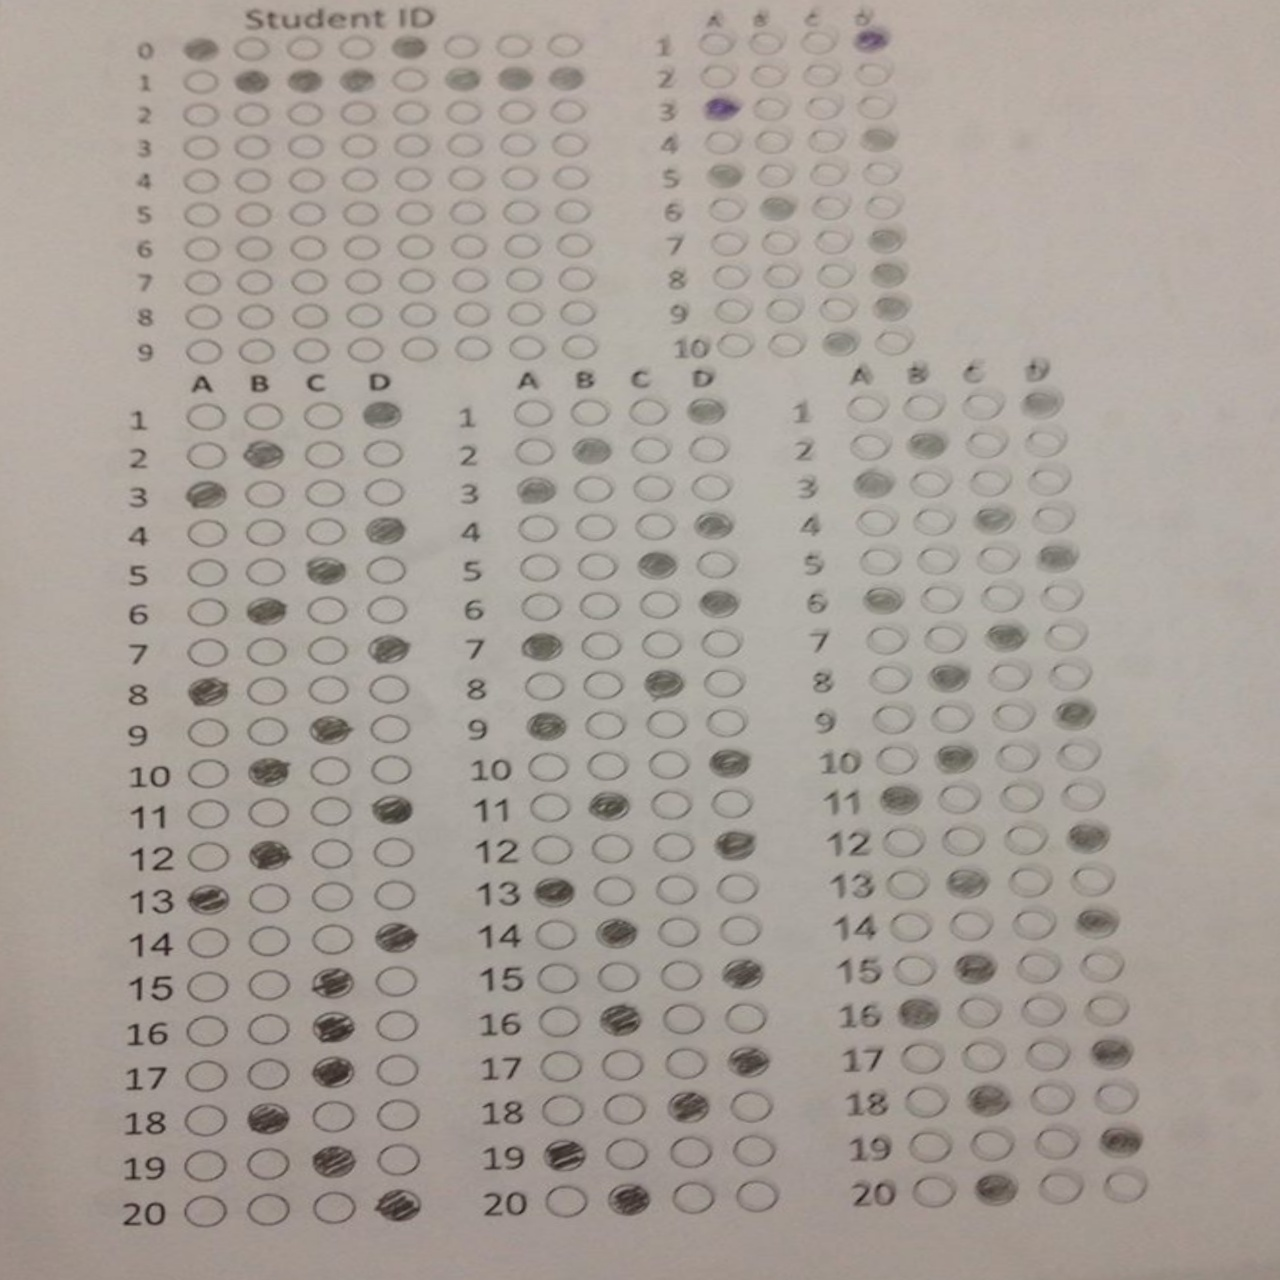not-c: (179, 1101, 229, 1139), (241, 922, 297, 956), (597, 1092, 651, 1126), (245, 1056, 294, 1092), (880, 911, 934, 944), (535, 1051, 586, 1085), (374, 1142, 422, 1178), (527, 962, 580, 995), (1048, 741, 1104, 771), (903, 1130, 953, 1164), (523, 753, 574, 785), (1010, 908, 1061, 941), (309, 1098, 356, 1133), (656, 958, 703, 993), (717, 915, 765, 949), (969, 1128, 1017, 1162), (1037, 1172, 1085, 1206), (532, 1007, 584, 1039), (602, 1047, 646, 1084), (243, 1194, 292, 1227), (901, 1085, 951, 1118), (599, 1137, 652, 1167), (375, 1054, 422, 1088), (181, 1194, 227, 1228), (665, 1046, 712, 1080), (1022, 1039, 1069, 1073), (519, 792, 573, 822), (999, 826, 1053, 856), (646, 748, 694, 781), (666, 1183, 714, 1216), (1033, 1126, 1082, 1158), (246, 1148, 292, 1182), (646, 789, 693, 822), (1080, 994, 1126, 1027), (880, 869, 931, 899), (947, 912, 998, 942), (545, 1183, 588, 1218), (1016, 953, 1060, 988), (184, 1016, 232, 1048), (1092, 1082, 1141, 1114), (918, 624, 969, 653), (376, 1097, 422, 1130), (712, 872, 757, 905), (668, 1137, 714, 1170), (1068, 869, 1117, 899), (243, 636, 290, 668), (372, 881, 418, 913), (182, 1061, 229, 1092), (651, 831, 697, 863), (853, 508, 900, 539), (985, 663, 1035, 693), (1016, 996, 1067, 1026), (247, 798, 291, 832), (369, 835, 413, 869), (186, 925, 230, 959), (913, 1175, 956, 1208), (1105, 1172, 1149, 1206), (372, 967, 420, 998), (586, 753, 634, 783), (710, 789, 758, 819), (998, 783, 1046, 813), (888, 955, 937, 986), (244, 715, 290, 747), (368, 755, 414, 787), (312, 924, 358, 955), (530, 920, 576, 952), (1081, 952, 1126, 983), (542, 1092, 583, 1128), (587, 876, 634, 906), (953, 999, 1000, 1029), (900, 1042, 947, 1073), (308, 754, 352, 787), (701, 627, 744, 660), (663, 1005, 707, 1037), (312, 1191, 356, 1223), (687, 471, 731, 503), (522, 670, 566, 702), (1027, 1083, 1071, 1115), (182, 638, 230, 667), (726, 1003, 767, 1037), (188, 799, 233, 830), (184, 842, 230, 872), (184, 1151, 230, 1182), (510, 436, 556, 467), (629, 476, 675, 506), (653, 874, 699, 905), (1064, 782, 1110, 812), (879, 828, 925, 858), (1009, 871, 1055, 901), (519, 551, 561, 584), (731, 1139, 778, 1169), (840, 394, 887, 423), (365, 554, 408, 586), (729, 1092, 772, 1124), (845, 433, 896, 459), (244, 477, 288, 508), (635, 511, 680, 542), (366, 716, 414, 744), (658, 917, 699, 949), (246, 969, 292, 999), (513, 513, 559, 543), (932, 787, 981, 813), (301, 401, 345, 431), (186, 973, 230, 1003), (376, 1012, 420, 1042), (576, 512, 619, 543), (243, 519, 290, 547), (738, 1178, 777, 1212), (313, 881, 353, 914), (692, 552, 736, 581), (703, 669, 748, 699), (706, 710, 750, 740), (248, 1014, 290, 1046), (644, 632, 685, 663), (964, 1042, 1005, 1074), (307, 798, 355, 825), (527, 836, 576, 863), (556, 298, 598, 328), (243, 558, 288, 586), (305, 595, 350, 624), (244, 676, 290, 704), (307, 840, 353, 869), (574, 553, 620, 581), (967, 469, 1013, 497), (1027, 467, 1073, 495), (1042, 621, 1084, 652), (869, 704, 914, 733), (182, 302, 225, 332), (185, 441, 229, 470), (588, 836, 632, 865), (941, 828, 985, 857), (245, 885, 292, 912), (183, 598, 227, 626), (366, 595, 410, 624), (958, 393, 1002, 421), (336, 33, 377, 63), (646, 708, 687, 738), (812, 298, 860, 324), (287, 199, 329, 229), (581, 629, 624, 659), (583, 670, 625, 700), (183, 520, 229, 547), (568, 400, 614, 427), (869, 666, 914, 693), (873, 745, 919, 772), (641, 588, 680, 620), (546, 30, 590, 59), (369, 676, 413, 704), (185, 760, 229, 788), (572, 477, 615, 505), (584, 712, 627, 740), (976, 586, 1020, 614), (1049, 663, 1092, 692), (996, 744, 1040, 772), (306, 674, 346, 704), (233, 268, 274, 298), (704, 195, 749, 222), (815, 263, 859, 290), (365, 479, 407, 508), (629, 397, 672, 425), (802, 93, 844, 121), (964, 430, 1006, 458), (1032, 505, 1074, 533), (627, 437, 673, 463), (765, 332, 811, 358), (231, 35, 274, 62), (394, 234, 437, 261), (306, 518, 349, 545), (1024, 429, 1068, 456), (918, 545, 958, 574), (393, 268, 434, 297), (186, 404, 227, 433), (241, 402, 282, 430), (302, 440, 343, 468), (581, 592, 622, 620), (918, 587, 965, 612), (448, 232, 490, 259), (396, 302, 438, 329), (302, 481, 345, 508), (285, 100, 324, 129), (599, 964, 638, 993), (932, 703, 971, 733), (284, 34, 324, 62), (284, 132, 324, 161), (290, 268, 329, 297), (291, 302, 331, 331), (857, 159, 897, 188), (978, 549, 1017, 577), (504, 302, 547, 328), (511, 399, 554, 424), (749, 96, 792, 122), (1041, 585, 1084, 611), (392, 200, 433, 227), (339, 234, 380, 261), (181, 270, 222, 297), (188, 559, 229, 586), (688, 436, 729, 463), (519, 595, 560, 622), (994, 702, 1032, 731), (493, 35, 538, 60), (858, 195, 903, 219), (234, 200, 273, 229), (340, 199, 379, 227), (236, 234, 274, 263), (237, 304, 275, 332), (908, 471, 951, 497), (343, 304, 383, 331), (307, 636, 347, 663), (189, 719, 229, 745), (803, 130, 849, 154), (502, 233, 545, 258), (553, 233, 597, 258), (440, 34, 481, 60), (232, 132, 273, 158), (508, 335, 549, 361), (696, 30, 737, 56), (758, 263, 799, 288), (811, 162, 849, 190), (860, 547, 898, 576), (756, 162, 795, 189), (915, 508, 954, 535), (339, 101, 379, 127), (447, 200, 486, 226), (345, 268, 384, 294), (236, 340, 275, 366), (904, 396, 944, 422), (550, 132, 587, 159), (293, 338, 331, 365), (347, 338, 384, 365), (554, 266, 595, 291), (183, 341, 224, 366), (855, 95, 896, 120), (702, 129, 743, 154), (704, 231, 745, 256), (445, 134, 484, 159), (747, 30, 785, 56), (184, 67, 218, 96), (710, 266, 753, 290), (390, 101, 430, 125), (182, 135, 222, 159), (179, 168, 219, 192), (447, 166, 486, 191), (184, 102, 220, 129), (393, 165, 429, 192), (755, 129, 791, 156), (400, 338, 437, 363), (452, 338, 490, 363), (799, 29, 837, 55), (750, 63, 788, 89), (813, 231, 855, 254), (712, 299, 753, 322), (503, 199, 542, 224), (183, 234, 222, 259), (290, 165, 325, 192), (552, 165, 587, 192), (498, 166, 540, 189), (445, 97, 482, 123), (549, 98, 585, 124), (182, 203, 218, 229), (452, 267, 489, 293), (696, 67, 736, 90), (799, 63, 839, 87), (863, 629, 903, 653), (553, 200, 591, 225), (561, 335, 599, 360), (713, 333, 754, 355), (292, 236, 327, 261), (365, 442, 401, 467), (876, 328, 912, 353), (853, 64, 896, 86), (497, 98, 535, 122), (392, 134, 429, 157), (233, 169, 271, 192), (452, 302, 486, 328), (341, 169, 380, 191), (340, 135, 376, 158), (503, 268, 539, 292), (810, 196, 846, 219), (764, 299, 802, 321), (233, 103, 272, 124), (497, 134, 533, 156), (761, 232, 797, 254), (395, 70, 428, 91)
taken-c: (1061, 821, 1114, 858), (968, 1169, 1019, 1207), (1091, 1123, 1143, 1160), (948, 949, 998, 988), (370, 1189, 424, 1224), (602, 1180, 654, 1217), (594, 1002, 646, 1039), (306, 967, 358, 1002), (724, 1044, 772, 1082), (366, 794, 418, 828), (933, 741, 982, 777), (1071, 904, 1121, 940), (245, 838, 295, 873), (719, 955, 767, 992), (304, 712, 354, 745), (542, 1139, 592, 1173), (893, 998, 944, 1032), (980, 620, 1027, 656), (942, 867, 990, 903), (964, 1082, 1012, 1117), (245, 755, 294, 789), (663, 1090, 713, 1124), (530, 874, 579, 908), (518, 631, 567, 665), (308, 1012, 359, 1044), (1049, 697, 1099, 730), (307, 1055, 354, 1090), (594, 915, 641, 951), (365, 632, 413, 666), (971, 502, 1019, 536), (1085, 1036, 1133, 1070), (369, 921, 418, 954), (1032, 542, 1081, 574), (1016, 388, 1067, 420), (243, 595, 290, 629), (185, 883, 232, 917), (851, 467, 898, 501), (857, 584, 905, 617), (877, 783, 925, 816), (304, 553, 349, 587), (309, 1145, 355, 1179), (706, 745, 751, 779), (636, 549, 681, 583), (178, 34, 227, 64), (246, 1103, 292, 1136), (712, 828, 757, 860), (696, 587, 742, 620), (241, 438, 288, 470), (641, 668, 685, 702), (184, 478, 229, 511), (359, 400, 404, 431), (362, 515, 408, 546), (869, 259, 914, 291), (925, 662, 971, 694), (526, 709, 570, 742), (568, 435, 613, 467), (186, 676, 229, 709), (388, 30, 431, 62), (587, 789, 631, 821), (692, 510, 735, 542), (515, 474, 558, 505), (903, 431, 949, 459), (284, 67, 328, 96), (231, 66, 273, 96), (492, 64, 538, 93), (818, 327, 857, 360), (856, 125, 900, 154), (336, 66, 377, 96), (440, 64, 483, 93), (685, 397, 728, 425), (547, 63, 588, 93), (704, 159, 745, 189), (864, 227, 906, 256), (850, 26, 890, 55), (756, 195, 798, 222), (701, 96, 743, 122), (871, 297, 911, 324)
